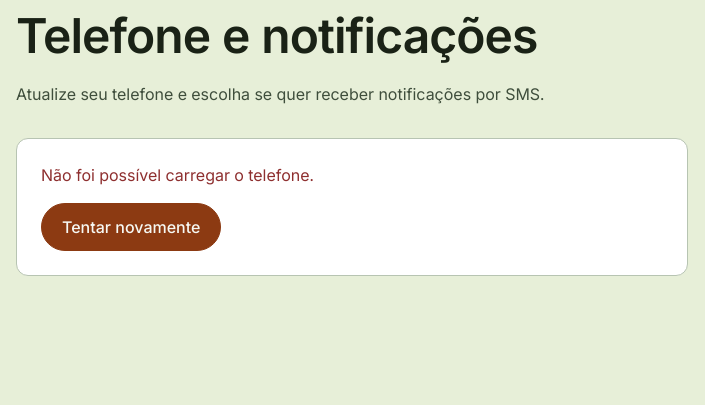
ProfilePage › keeps preferences form hidden when loading fails, then allows retry
Expected: the message "Não foi possível carregar o telefone." is shown, [41, 165, 314, 185]
Expected: the button "Salvar alterações" is not shown
Click the button "Tentar novamente" at (131, 227), box [41, 203, 221, 251]
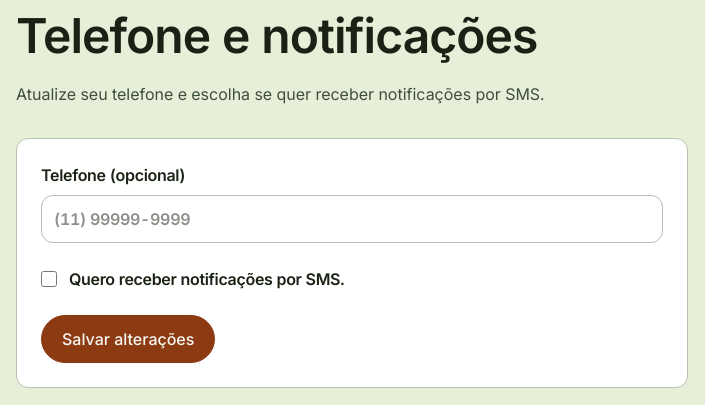
Expected: the button "Salvar alterações" is shown, [41, 315, 215, 363]
